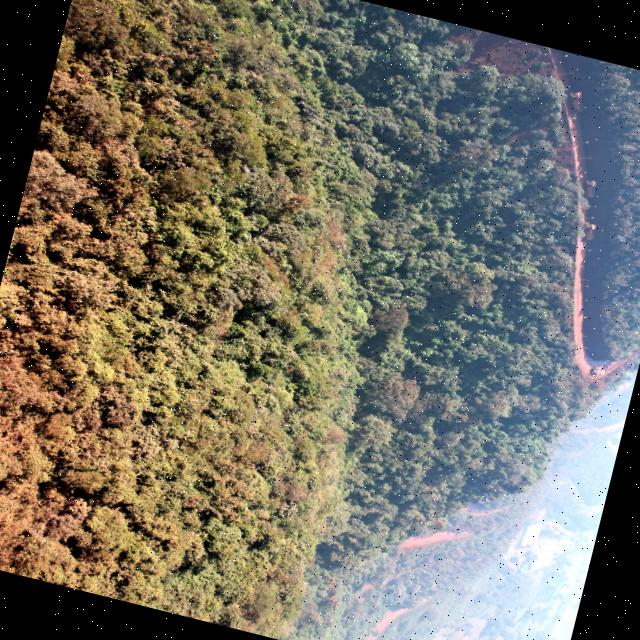Dumper truck: (580, 221, 596, 240), (566, 90, 581, 106), (584, 178, 596, 191), (590, 366, 604, 375)
